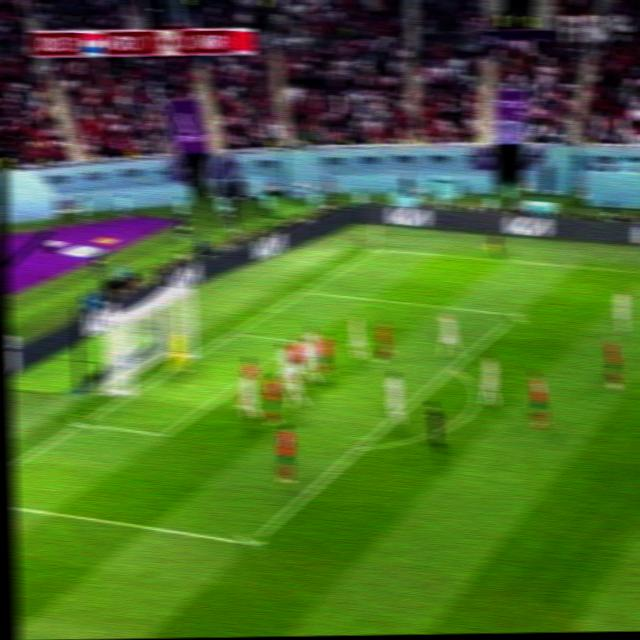bigarea_bottom_inner: (238, 527, 265, 557)
bigarea_top_inner: (505, 303, 526, 324)
bigarea_top_outter: (294, 282, 314, 299)
bottom_arc_area_intersection: (348, 434, 372, 458)
corner: (365, 241, 386, 257)
smallarea_bottom_inner: (153, 420, 177, 448)
smallarea_bottom_outter: (70, 410, 93, 434)
smallarea_top_outter: (224, 322, 244, 342)
top_arc_area_intersection: (442, 358, 462, 378)
